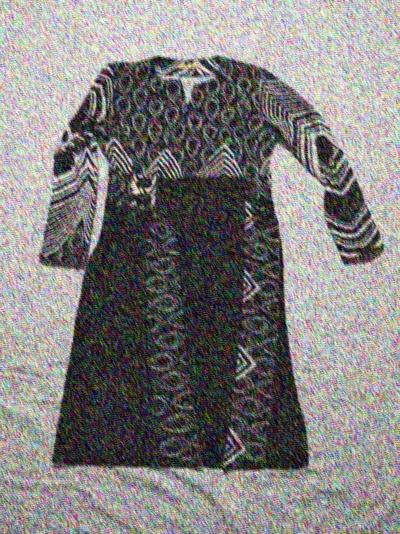Dress: (25, 39, 377, 491)
